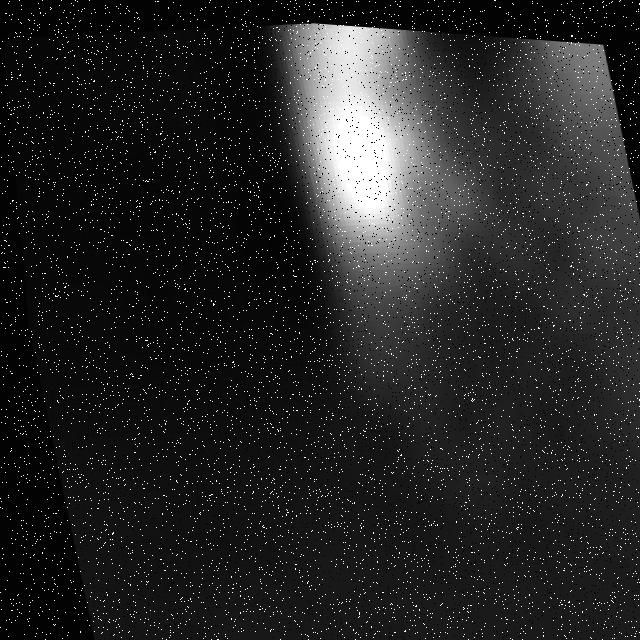person: (274, 17, 527, 479), (478, 29, 640, 534)
